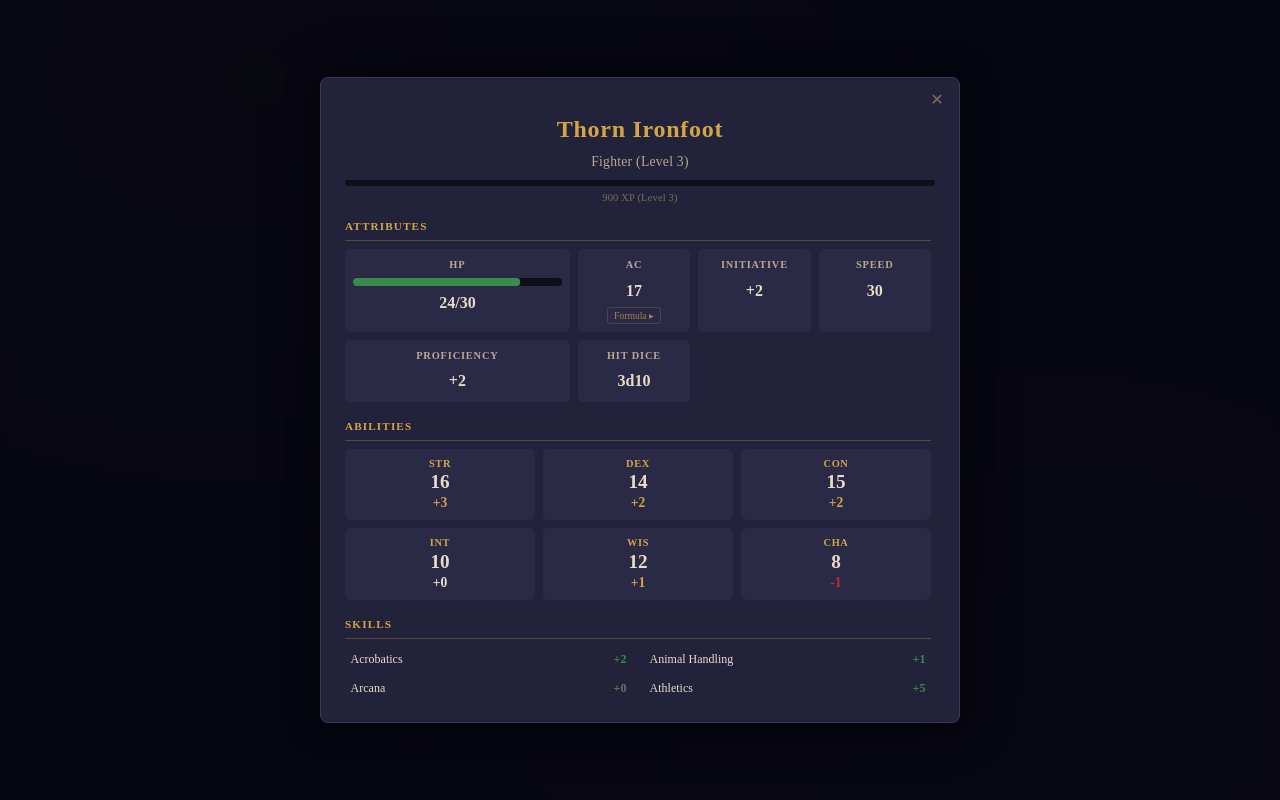
CharacterDetailsModal › ability modifiers and saving throws › expands ability card to show saving throw and formula
# Click to expand
Click the button "STR 16 +3": (440, 485) [345,449,535,520]
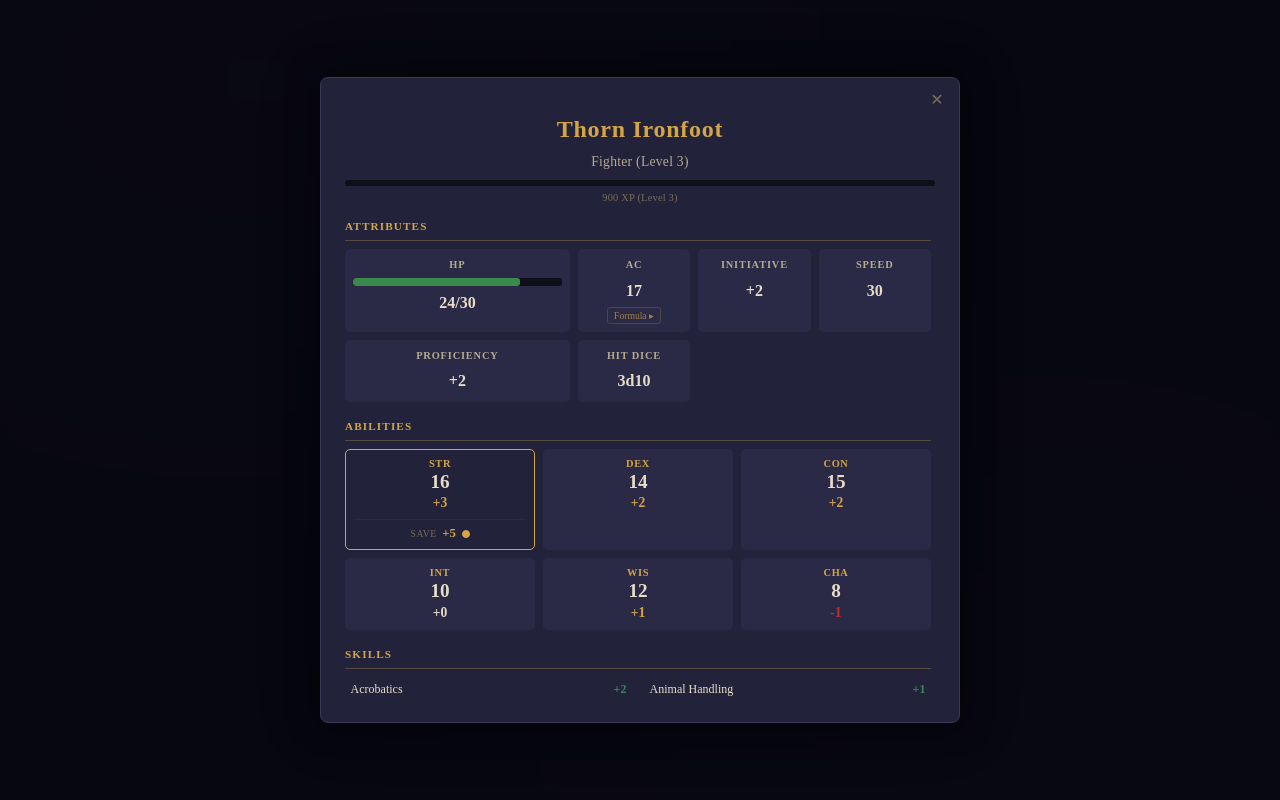
Check: the text "Save" is shown, box [410,528,437,539]
# Click again to collapse
Click the button "STR 16 +3 Save +5": (440, 499) [345,449,535,550]
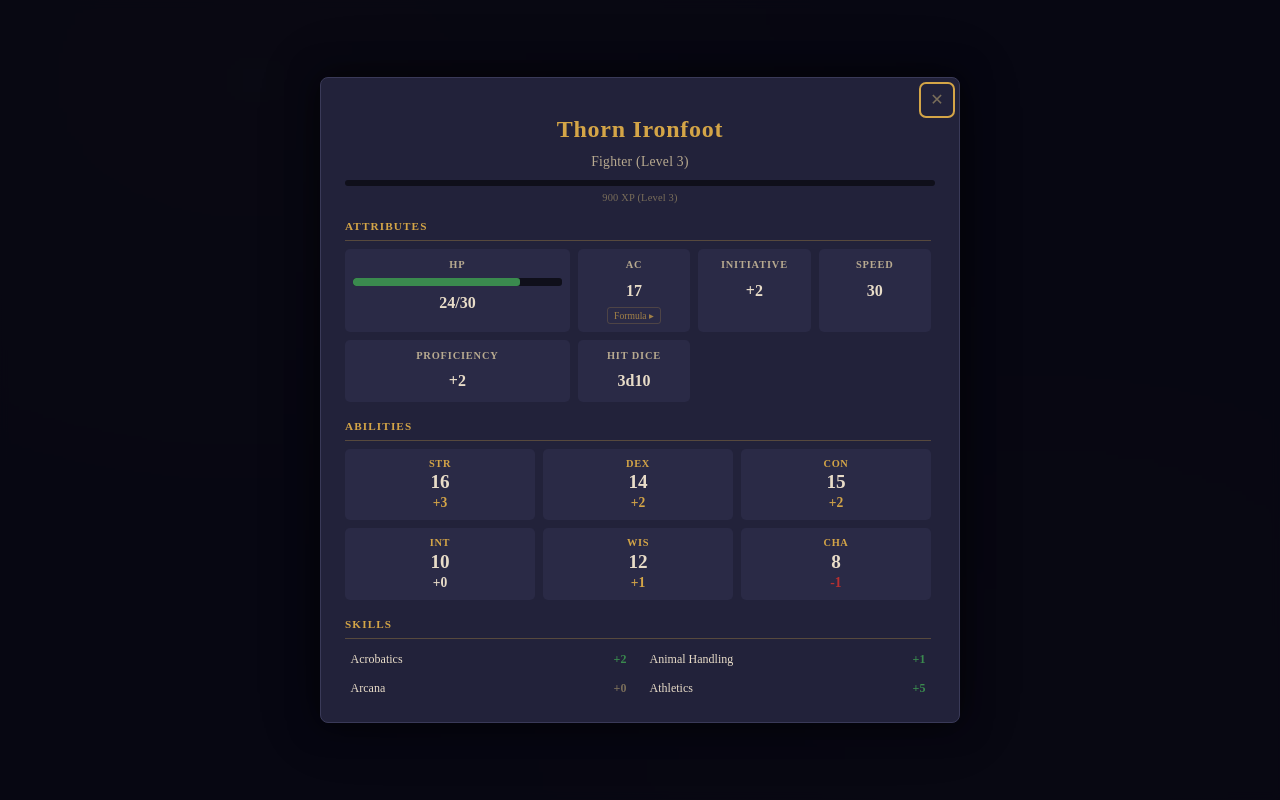
Check: the text "Save" is gone
